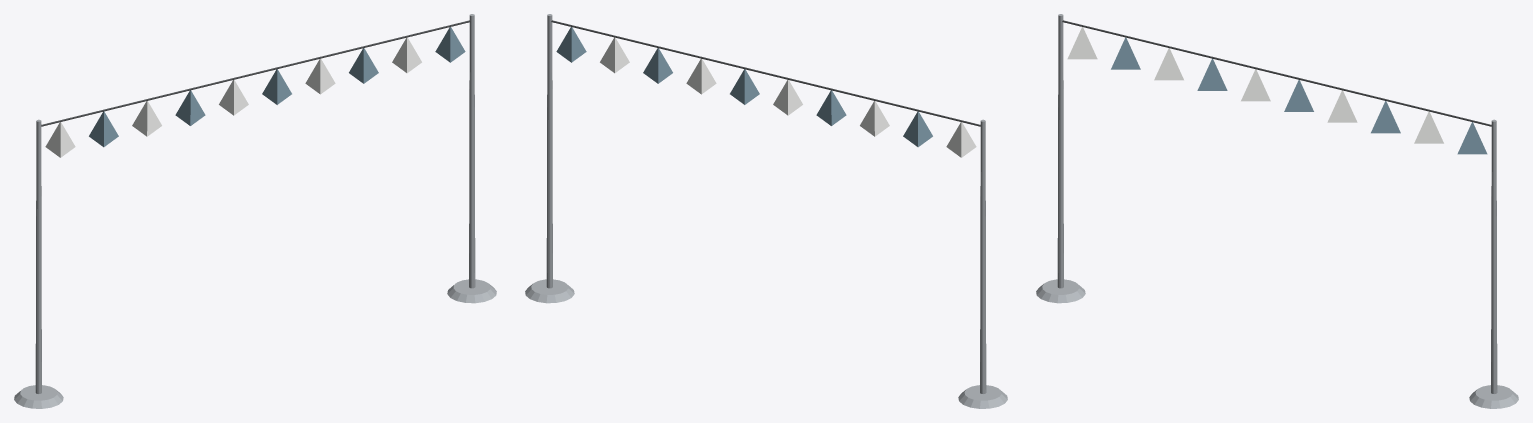
The model's file is road-car-showroom-lineup-bunting-line-1e723cde__15146.glb.
3 views of the same model, side by side, from view 1: azimuth 30°, elevation 25°; view 2: azimuth 150°, elevation 25°; view 3: azimuth 330°, elevation 25° (orthographic).
Parts seen in each view (by area): view 1: bunting-line; view 2: bunting-line; view 3: bunting-line.
Boxes of the visible parts, x1,y1,x2,y2 form: bunting-line: (14,14,496,408); bunting-line: (525,14,1007,408); bunting-line: (1036,14,1518,408).
Bounding box in the file's own units: 4.4 × 2.45 × 0.4002.
